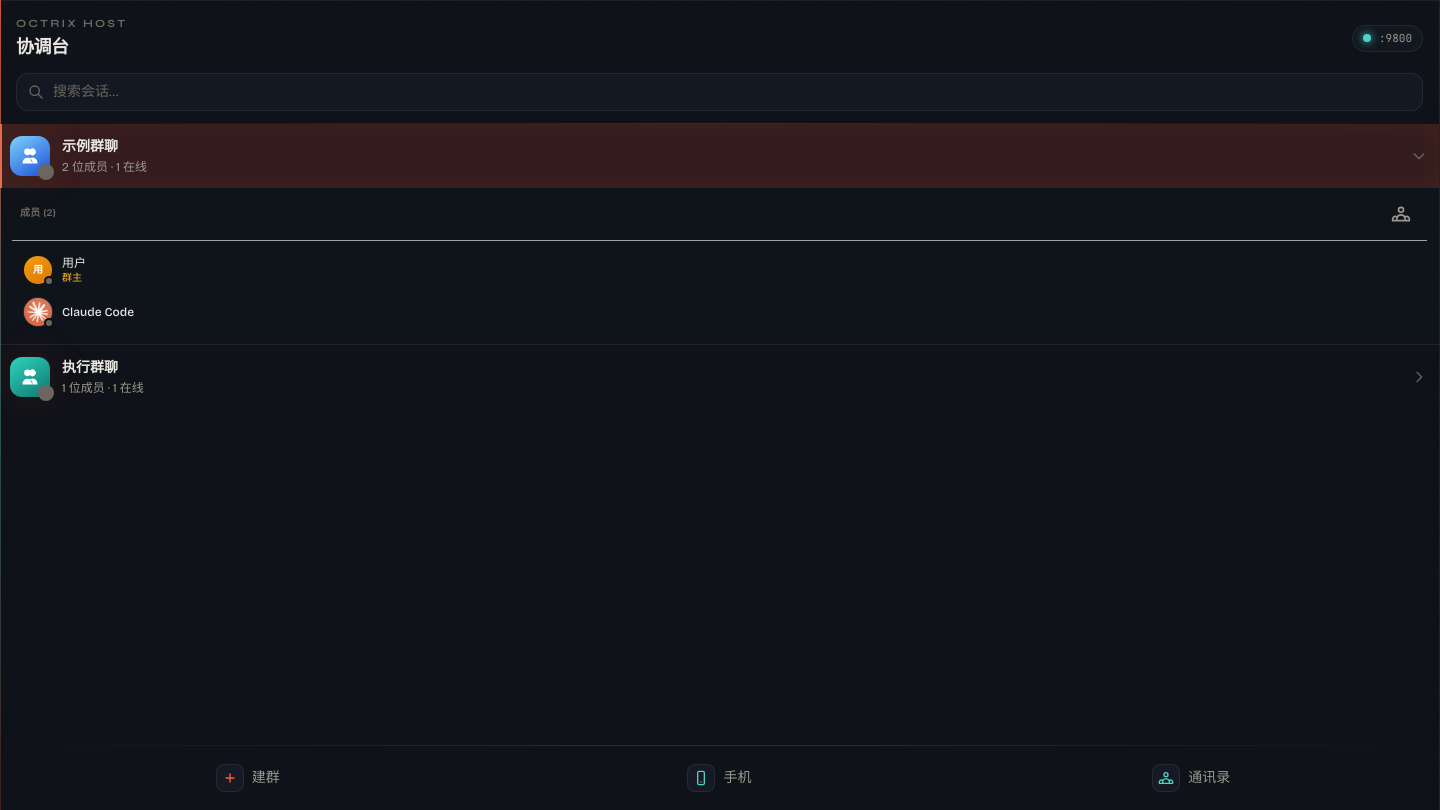
Sidebar conversation row members expand › closes previous group members when another group is selected
Expected: the text "成员 (2)" is shown, [20,206,56,221]
Expected: the text "成员 (1)" is not shown
Click the text "执行群聊".
click(90, 368)  # box [62,358,118,378]
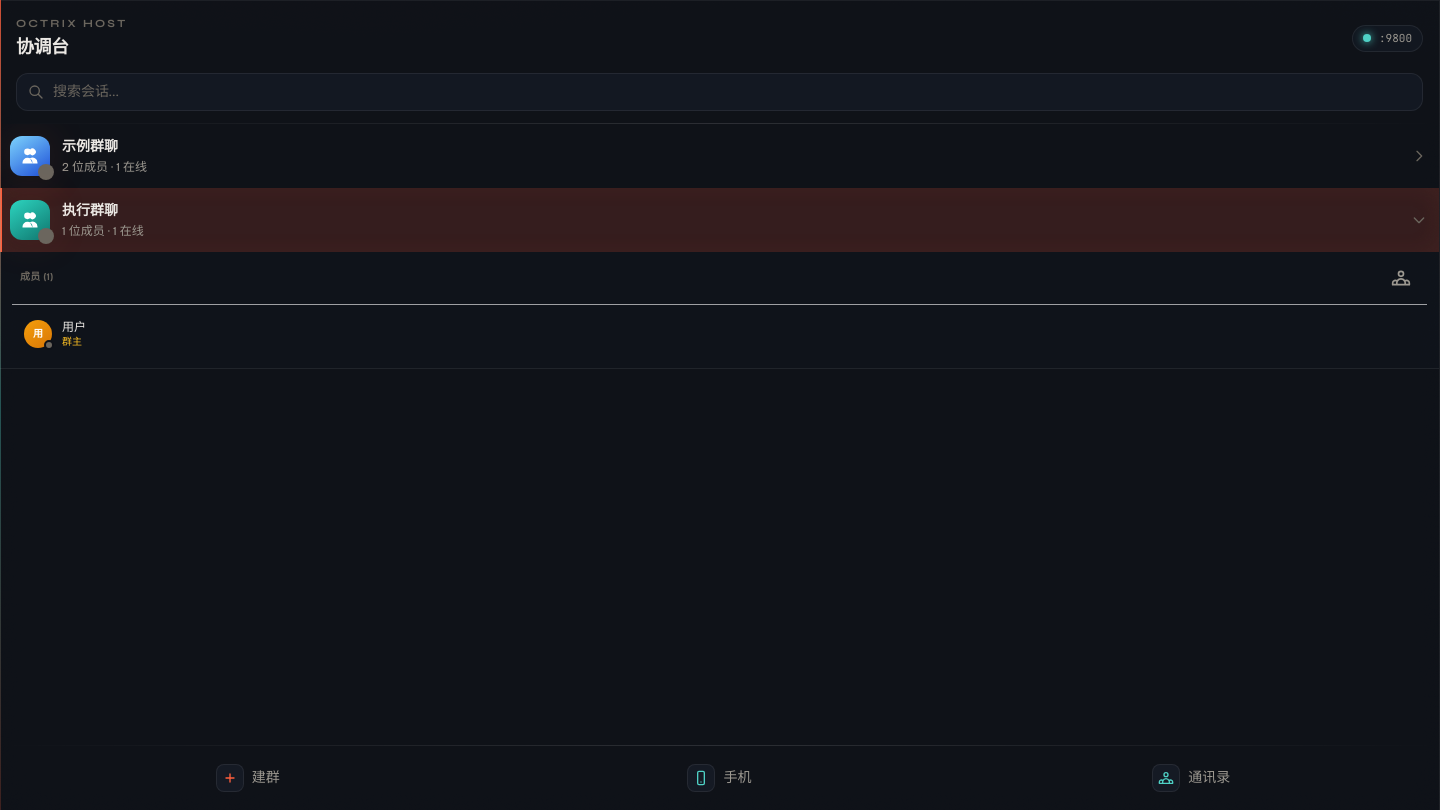
Now the text "成员 (2)" is gone
Now the text "成员 (1)" is shown, box [20,270,54,285]
